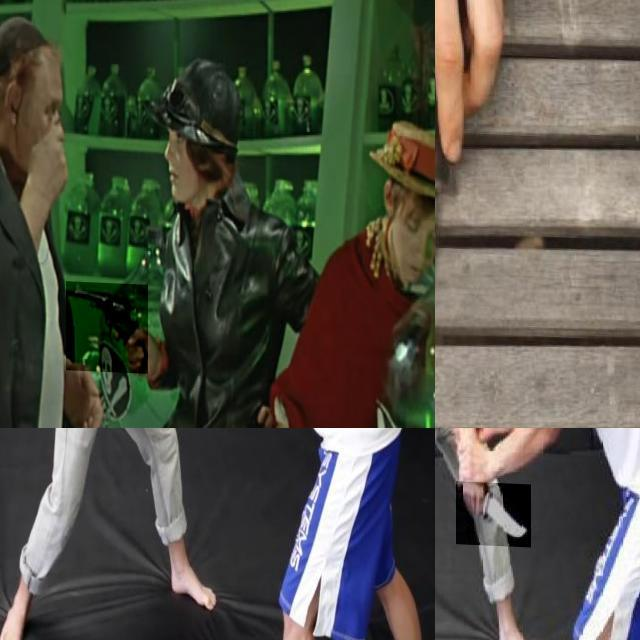-: (435, 58, 504, 428), (435, 135, 468, 428), (456, 478, 531, 544), (71, 428, 153, 470)
gun-knife-thesis - v11 Yolov5 augmented: (66, 279, 148, 372)
